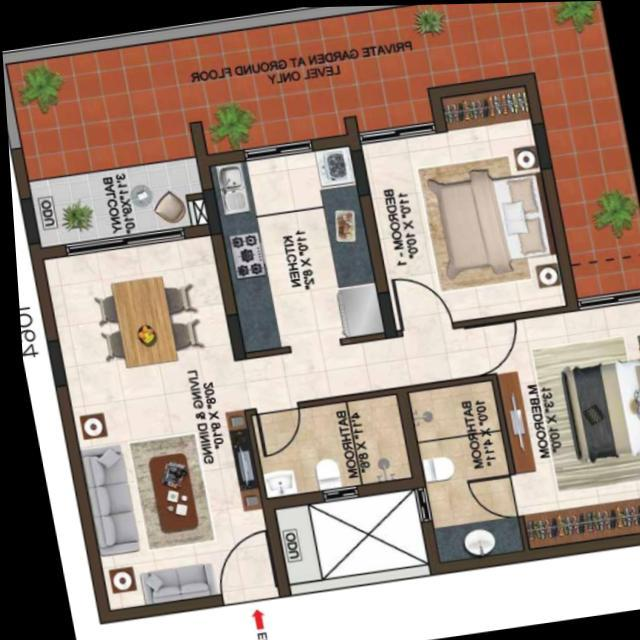Balcony-Sitout: (27, 152, 205, 246)
Bedroom: (364, 114, 566, 327)
Bedroom with Toilet: (400, 296, 640, 567)
Dining: (84, 265, 207, 373)
Enterance-Foyer: (202, 522, 278, 620)
Kitchen: (212, 146, 380, 351)
Living: (72, 393, 273, 619)
Toilet: (409, 384, 519, 561), (249, 390, 404, 495)
